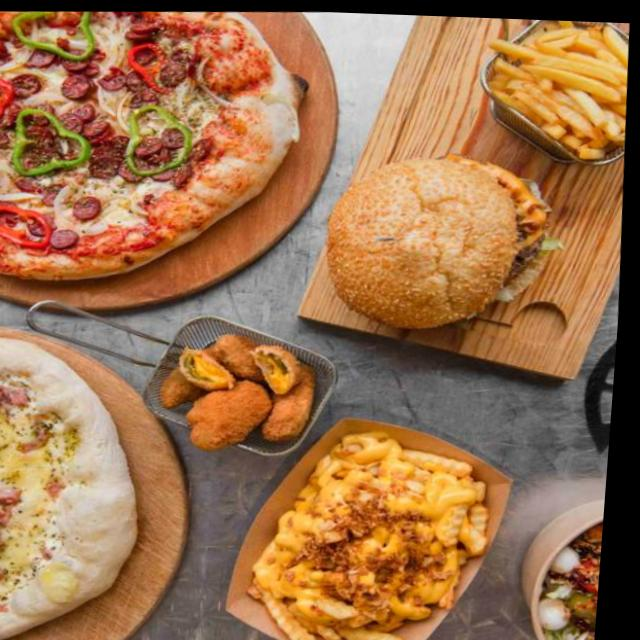burger: (321, 144, 573, 334)
pizza: (0, 0, 318, 290), (0, 329, 158, 640)
